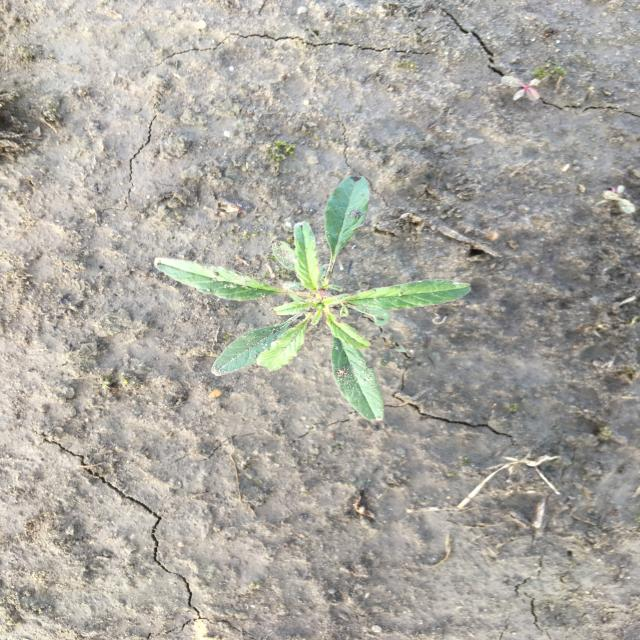Waterhemp: (150, 174, 474, 424)
